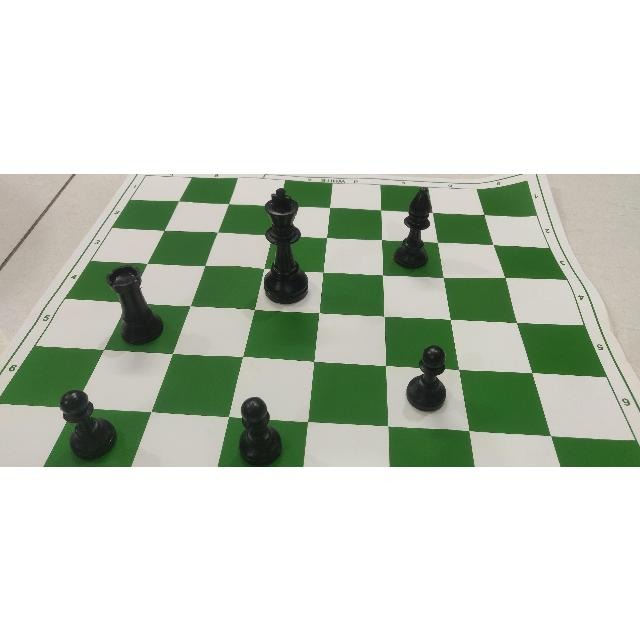black-bishop: (384, 183, 439, 269)
black-king: (252, 186, 317, 308)
black-pawn: (50, 387, 122, 457), (396, 341, 460, 419), (228, 393, 292, 465)
black-rook: (99, 260, 174, 346)
